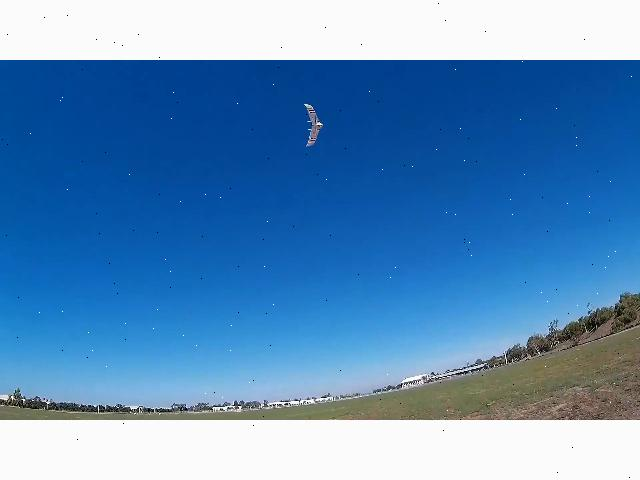Anti-Drone: (304, 104, 324, 146)
